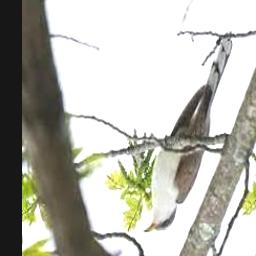Cuckoo: (142, 38, 232, 233)
